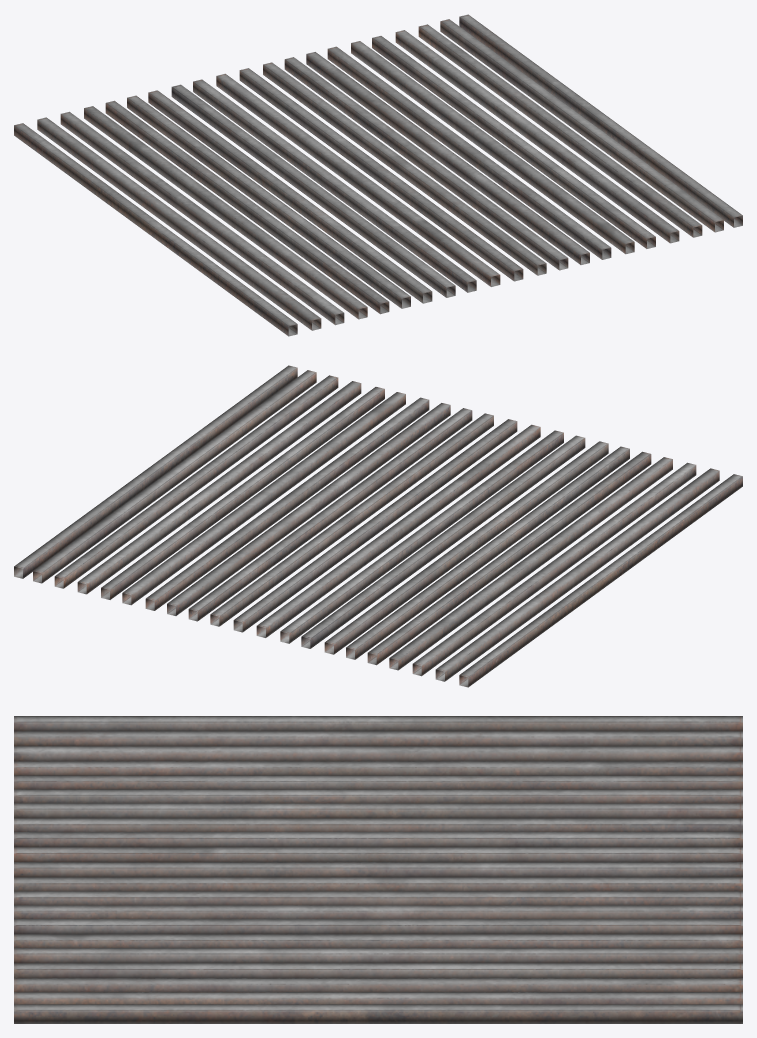
File: SM_Grate_1_Bars.fbx
The picture shows the model from 3 angles, top to bottom: view 1: azimuth 30°, elevation 25°; view 2: azimuth 150°, elevation 25°; view 3: azimuth 270°, elevation 25°; orthographic projection. The views are drawn at different scales.
Parts seen in each view (by area): view 1: SM_Grate_1_Bars; view 2: SM_Grate_1_Bars; view 3: SM_Grate_1_Bars.
Boxes of the visible parts, x1=… form: SM_Grate_1_Bars: x1=14, y1=14, x2=742, y2=336; SM_Grate_1_Bars: x1=14, y1=365, x2=742, y2=687; SM_Grate_1_Bars: x1=14, y1=716, x2=742, y2=1023.
Size of the model in its own units: 82.18 by 1.77 by 86.08.
